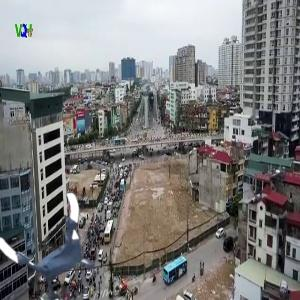drone: (8, 196, 110, 298)
